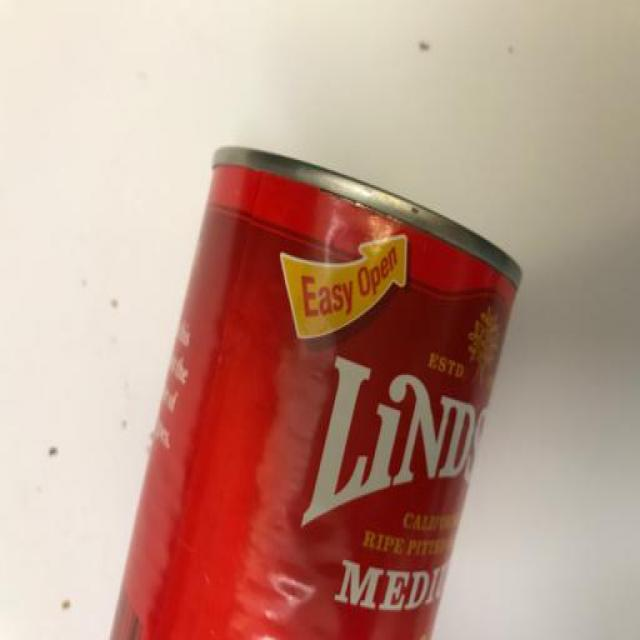metel: (103, 111, 559, 640)
